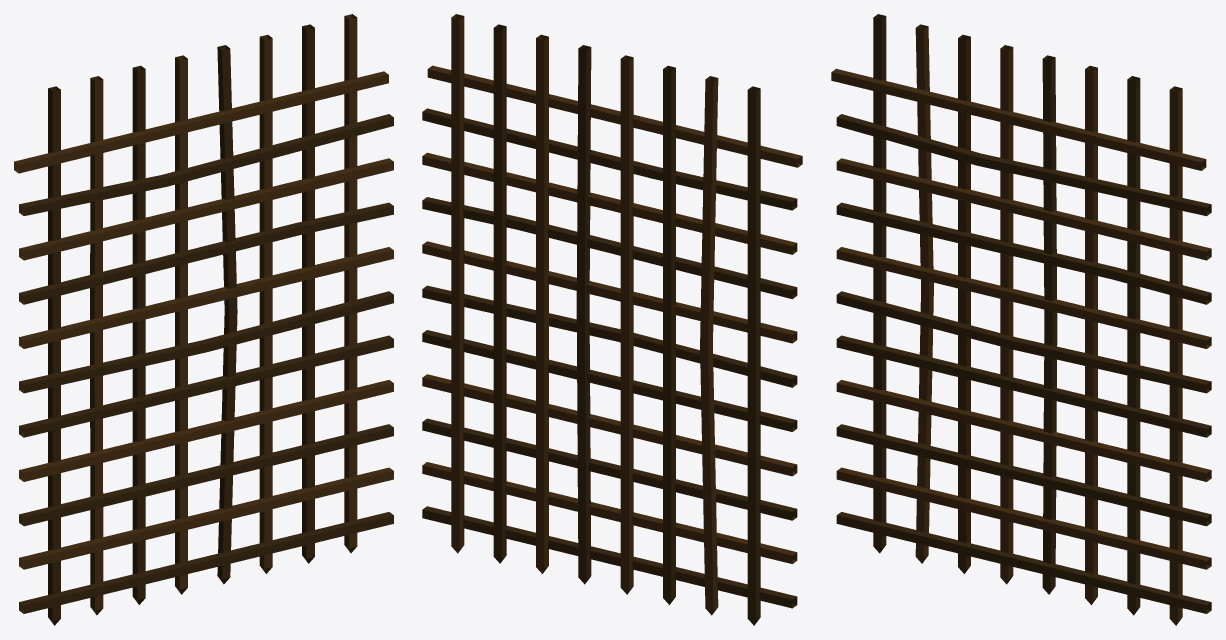
File: Castle-lattice-large.fbx
3 views of the same model, side by side, from view 1: azimuth 30°, elevation 25°; view 2: azimuth 150°, elevation 25°; view 3: azimuth 330°, elevation 25° (orthographic).
Parts seen in each view (by area): view 1: Castle-lattice-large; view 2: Castle-lattice-large; view 3: Castle-lattice-large.
Boxes of the visible parts, left/top/right/bottom form: Castle-lattice-large: left=14, top=14, right=393, bottom=625; Castle-lattice-large: left=422, top=14, right=802, bottom=625; Castle-lattice-large: left=831, top=14, right=1211, bottom=625.
Bounding box in the file's own units: 4.16 × 5.68 × 0.2879.
